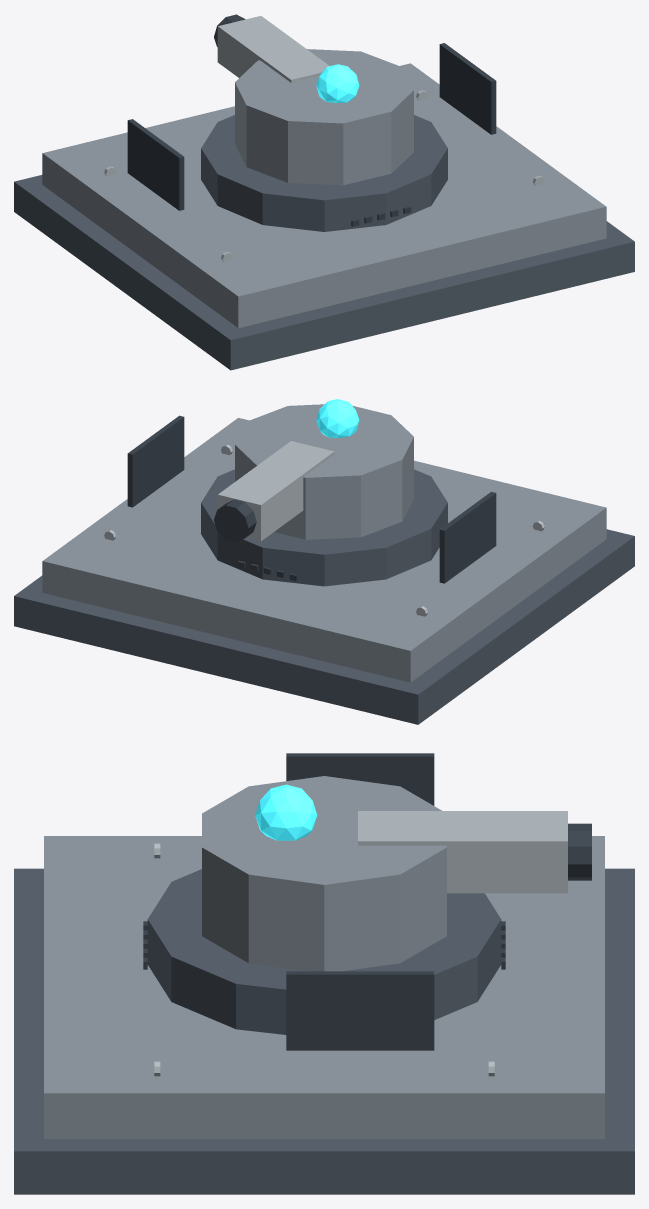
Rendered from turret.glb.
3 renders of one model, top to bottom at view 1: azimuth 30°, elevation 25°; view 2: azimuth 150°, elevation 25°; view 3: azimuth 270°, elevation 25°, orthographic. The views are drawn at different scales.
Visible parts, largest first — view 1: detail_001, detail_000, detail_003, detail_002, detail_004, detail_011, detail_014, detail_006; view 2: detail_001, detail_000, detail_003, detail_002, detail_004, detail_011, detail_014, detail_005, detail_006; view 3: detail_001, detail_000, detail_003, detail_002, detail_004, detail_014, detail_011, detail_006, detail_005.
Boxes of the visible parts, x1,y1,x2,y2 form: detail_001: (42,63,606,327); detail_000: (14,175,634,370); detail_003: (235,49,413,185); detail_002: (201,115,447,231); detail_004: (217,16,329,82); detail_011: (127,119,184,210); detail_014: (439,43,496,134); detail_006: (316,64,359,103); detail_001: (42,418,606,682); detail_000: (14,529,634,724); detail_003: (235,404,413,539); detail_002: (201,469,447,586); detail_004: (217,441,334,541); detail_011: (439,491,496,583); detail_014: (127,415,184,507); detail_005: (214,499,256,542); detail_006: (316,399,359,437); detail_001: (44,836,604,1138); detail_000: (14,868,634,1194); detail_003: (202,776,446,971); detail_002: (147,869,501,1034); detail_004: (358,811,567,893); detail_014: (286,971,434,1050); detail_011: (286,753,434,805); detail_006: (255,784,317,840); detail_005: (568,823,591,880).
Bounding box in the file's own units: 2.8 × 1.23 × 2.6.
